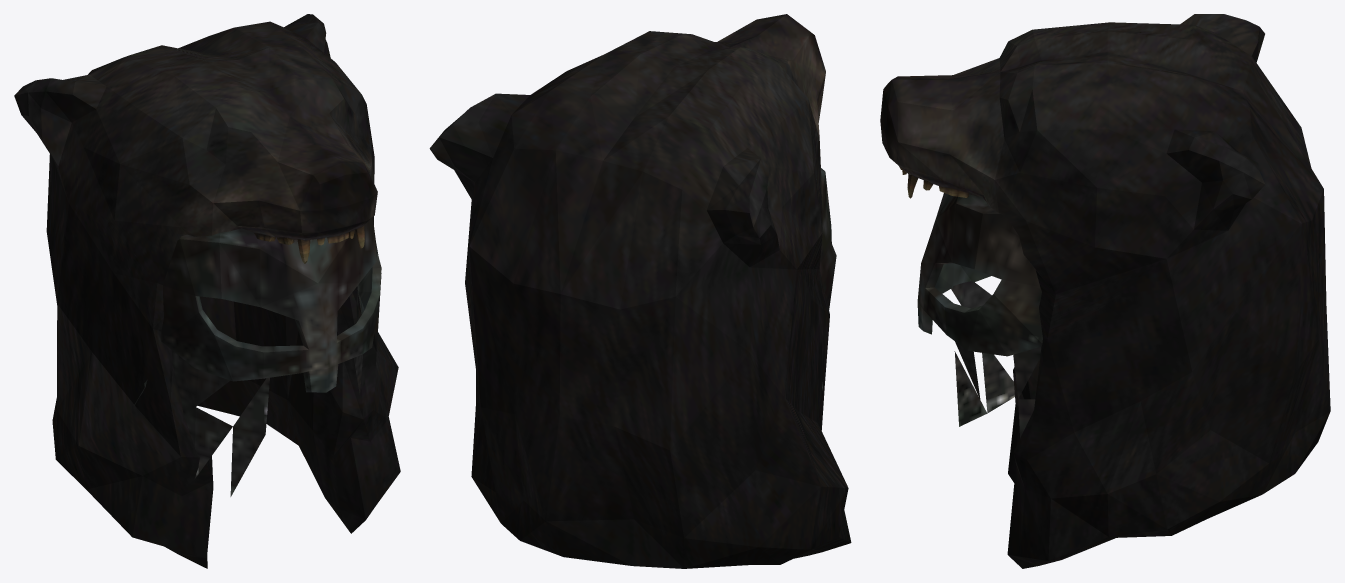
Rendered from helm8.glb.
3 views of the same model, side by side, from view 1: azimuth 30°, elevation 25°; view 2: azimuth 150°, elevation 25°; view 3: azimuth 270°, elevation 25° (orthographic). The views are drawn at different scales.
Visible parts, largest first — view 1: zengin; view 2: zengin; view 3: zengin.
Part boxes in pixels (<box>): zengin: <box>14,14,400,568</box>; zengin: <box>429,14,851,568</box>; zengin: <box>880,14,1330,568</box>.
Bounding box in the file's own units: 0.3021 × 0.4204 × 0.3535.
2 materials, 2 textured.
